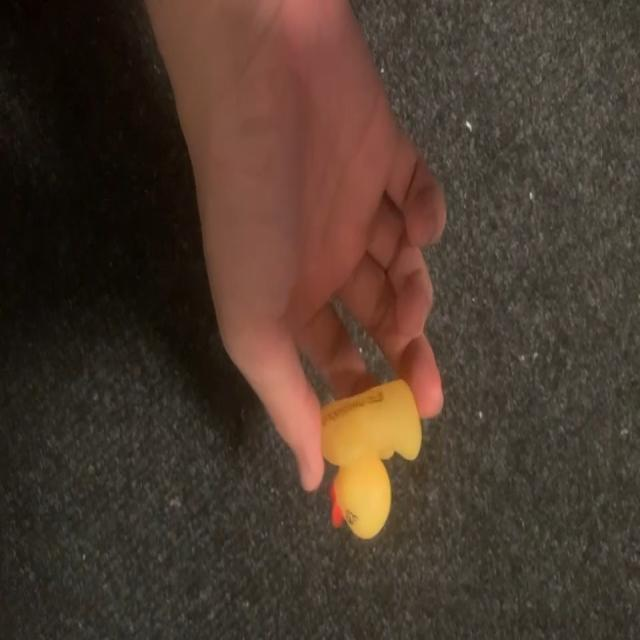rubber-duck: (321, 379, 420, 537)
